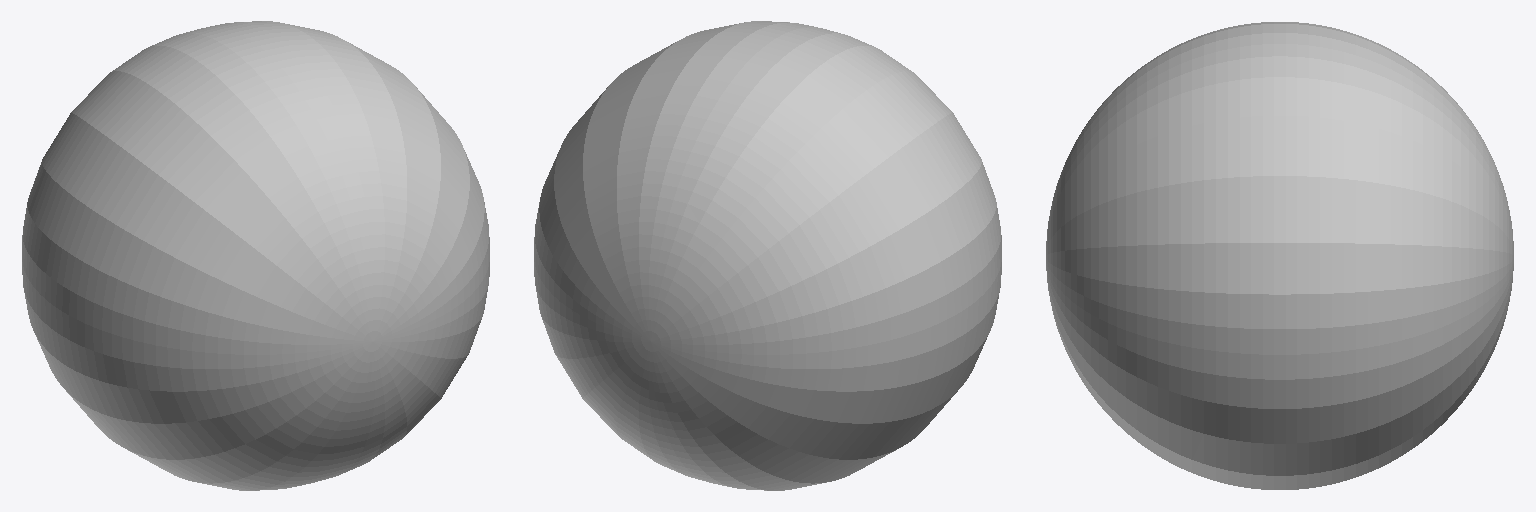
The picture shows the model from 3 angles: view 1: azimuth 30°, elevation 25°; view 2: azimuth 150°, elevation 25°; view 3: azimuth 270°, elevation 25°; orthographic projection.
Parts seen in each view (by area): view 1: 曲面球; view 2: 曲面球; view 3: 曲面球.
Boxes of the visible parts, <box> form: 曲面球: <box>22,21,489,490</box>; 曲面球: <box>534,21,1001,490</box>; 曲面球: <box>1046,22,1513,489</box>.
Bounding box in the file's own units: 0.1999 × 0.1999 × 0.2.